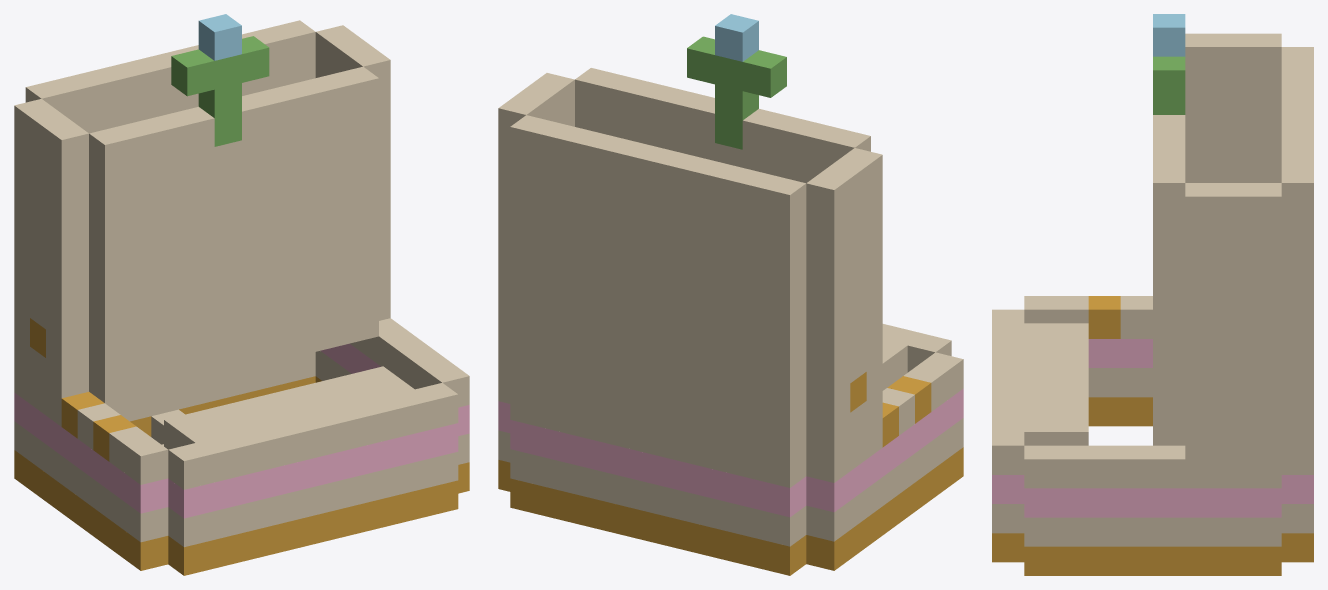
Rendered from britney-acc9.2a75f959.glb.
3 views of the same model, side by side, from view 1: azimuth 30°, elevation 25°; view 2: azimuth 150°, elevation 25°; view 3: azimuth 270°, elevation 25° (orthographic). The views are drawn at different scales.
Parts seen in each view (by area): view 1: beige, dorado, rosa, verde, celeste; view 2: beige, dorado, rosa, verde, celeste; view 3: beige, dorado, rosa, verde, celeste.
Boxes of the visible parts, x1,y1,x2,y2 form: beige: (14,20,469,547); dorado: (14,318,469,575); rosa: (14,343,469,518); verde: (171,36,269,146); celeste: (198,14,241,60); beige: (498,68,963,546); dorado: (498,372,963,575); rosa: (498,388,963,517); verde: (687,36,786,149); celeste: (715,14,758,61); beige: (992,33,1313,546); dorado: (992,296,1313,575); rosa: (992,339,1313,517); verde: (1153,56,1185,114); celeste: (1153,14,1185,56).
Size of the model in its own units: 0.216 by 0.288 by 0.18.
